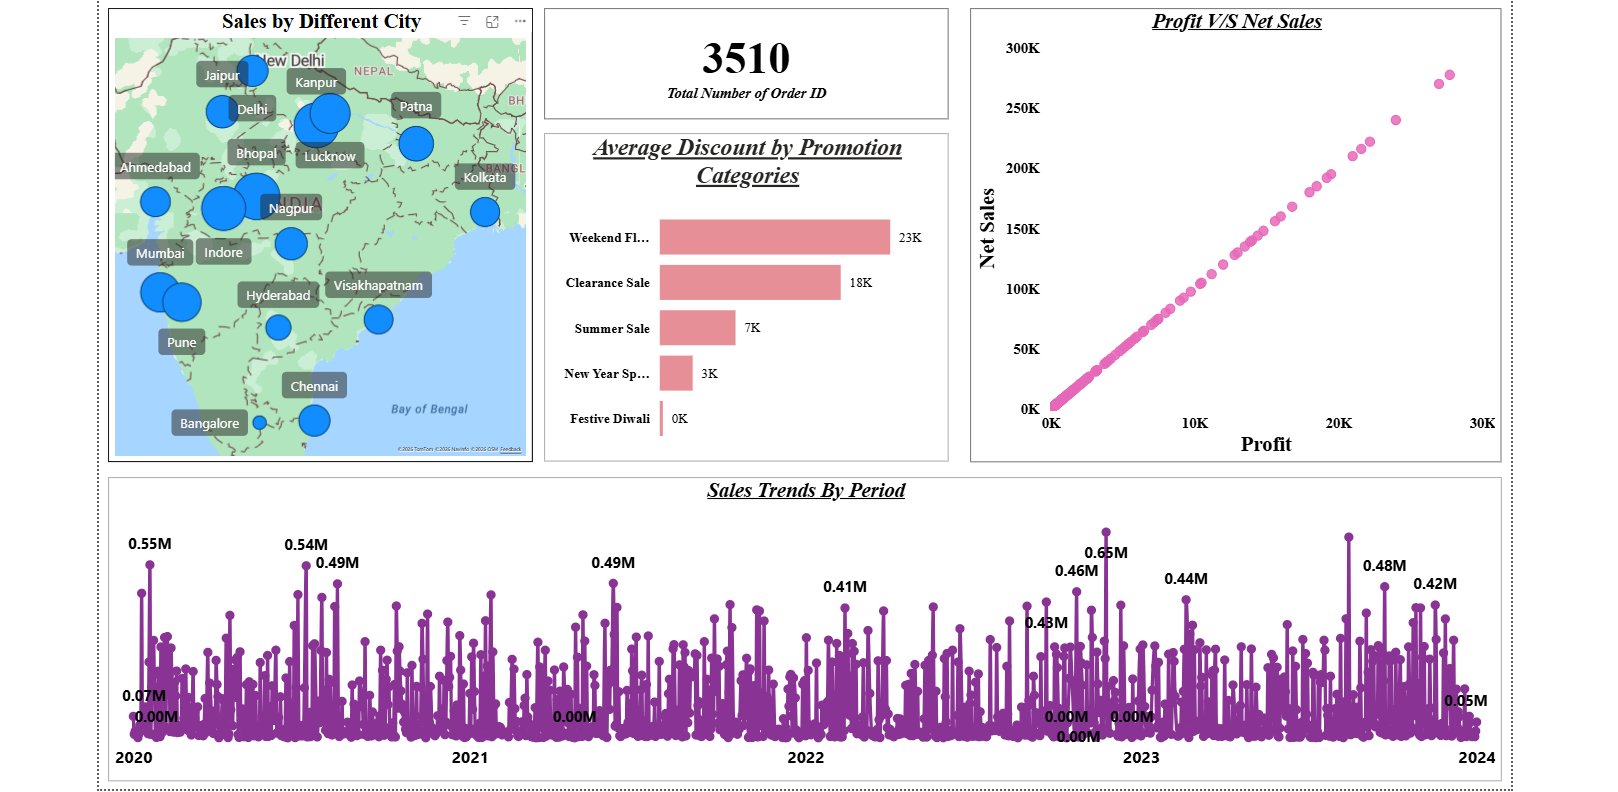

This screenshot's page, from the dashboard's own definition file:
{"tool":"powerbi","page":{"name":"Overview","canvas":[1280,720],"ordinal":0},"visuals":[{"type":"lineChart","title":"Sales Trends By Period","fields":{"Y":["Sum(Fact Table.Net Sales   )"],"Category":["Fact Table.Date (dd/mm/yyyy)"]},"box":[8.2,437.1,1264.1,275.7],"z":0},{"type":"scatterChart","title":"Profit V/S Net Sales   ","fields":{"X":["Fact Table.Profit"],"Y":["Fact Table.Net Sales   "]},"box":[789.8,11.8,482.4,411.7],"z":1000},{"type":"barChart","title":"Average Discount by Promotion Categories","fields":{"Y":["Avg(Fact Table.Discount)"],"Category":["Dim Promotion.Promotion Name"]},"box":[403.5,125.1,367.3,298.3],"z":2000},{"type":"azureMap","title":"Sales by Different City","fields":{"Size":["Sum(Fact Table.Net Sales   )"],"Category":["Dim Customers.City"]},"box":[8.2,11.8,385.4,411.7],"z":3000},{"type":"card","fields":{"Values":["Count(Fact Table.Order ID)"]},"box":[403.5,11.8,367.3,100.7],"z":4000}]}

Visuals, with their boxes on the page's 1280x720 design canvas (x1, y1, x2, y2). These are canvas units, not pixel positions in the 1618x792 screenshot, which may show the page scaled, cropped or inside an application window:
"Sales Trends By Period" lineChart: Rect(8, 437, 1272, 713)
"Profit V/S Net Sales   " scatterChart: Rect(790, 12, 1272, 424)
"Average Discount by Promotion Categories" barChart: Rect(404, 125, 771, 423)
"Sales by Different City" azureMap: Rect(8, 12, 394, 424)
card - Count(Fact Table.Order ID): Rect(404, 12, 771, 112)
